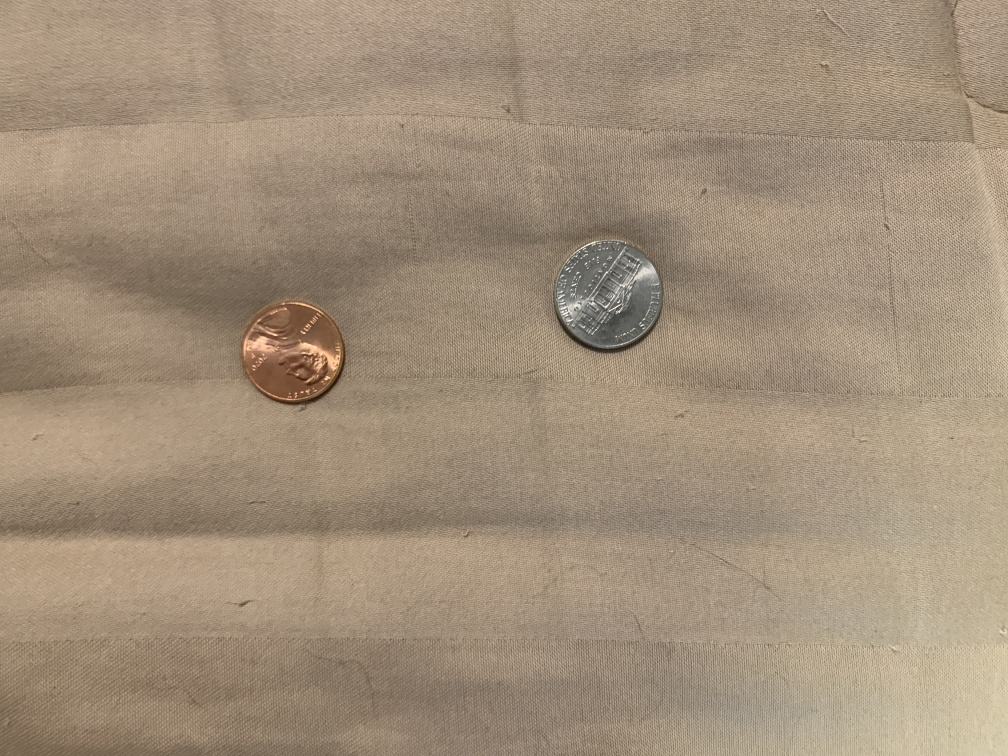nickel: (549, 236, 667, 354)
penny: (236, 298, 349, 406)
